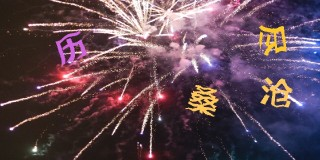历: (54, 30, 87, 67)
尽: (258, 24, 288, 56)
桑: (185, 83, 220, 119)
沧: (258, 76, 293, 109)
